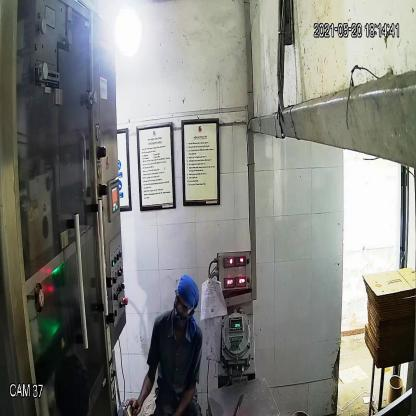goggles: (172, 292, 194, 317)
